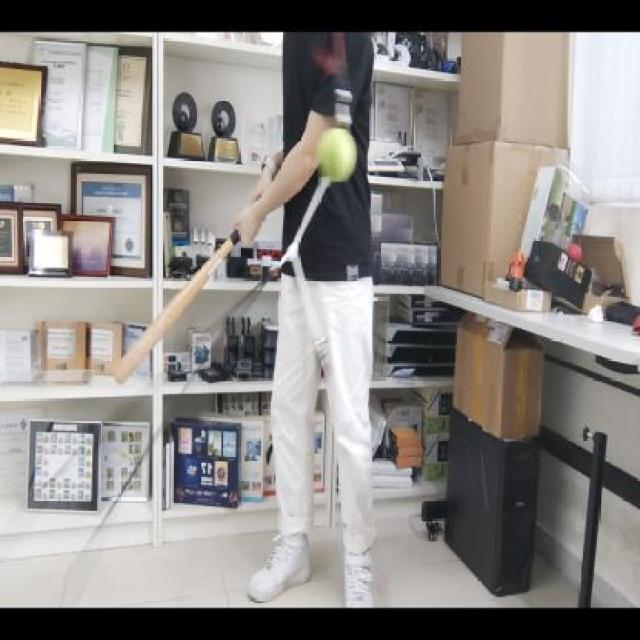baseball: (319, 123, 358, 186)
